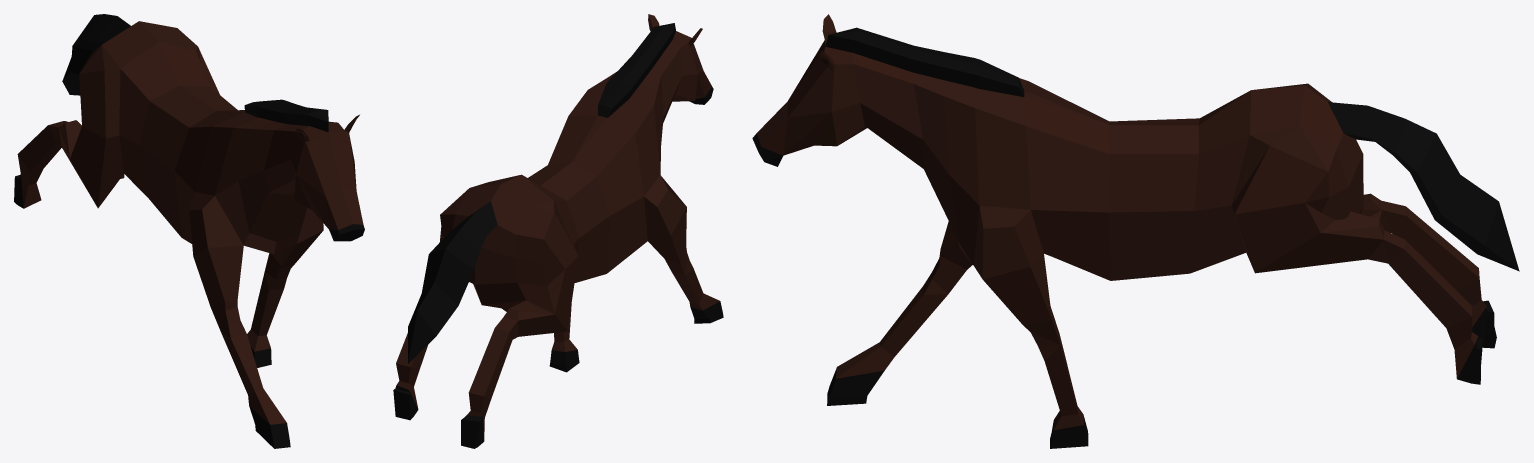
Rendered from Horse_000016.obj.
3 views of the same model, side by side, from view 1: azimuth 30°, elevation 25°; view 2: azimuth 150°, elevation 25°; view 3: azimuth 270°, elevation 25° (orthographic). The views are drawn at different scales.
Visible parts, largest first — view 1: Horse_Cylinder; view 2: Horse_Cylinder; view 3: Horse_Cylinder.
Part boxes in pixels (<box>): Horse_Cylinder: <box>14,14,364,448</box>; Horse_Cylinder: <box>393,14,723,448</box>; Horse_Cylinder: <box>752,14,1519,448</box>.
Bounding box in the file's own units: 2.67 × 6.05 × 10.56.
